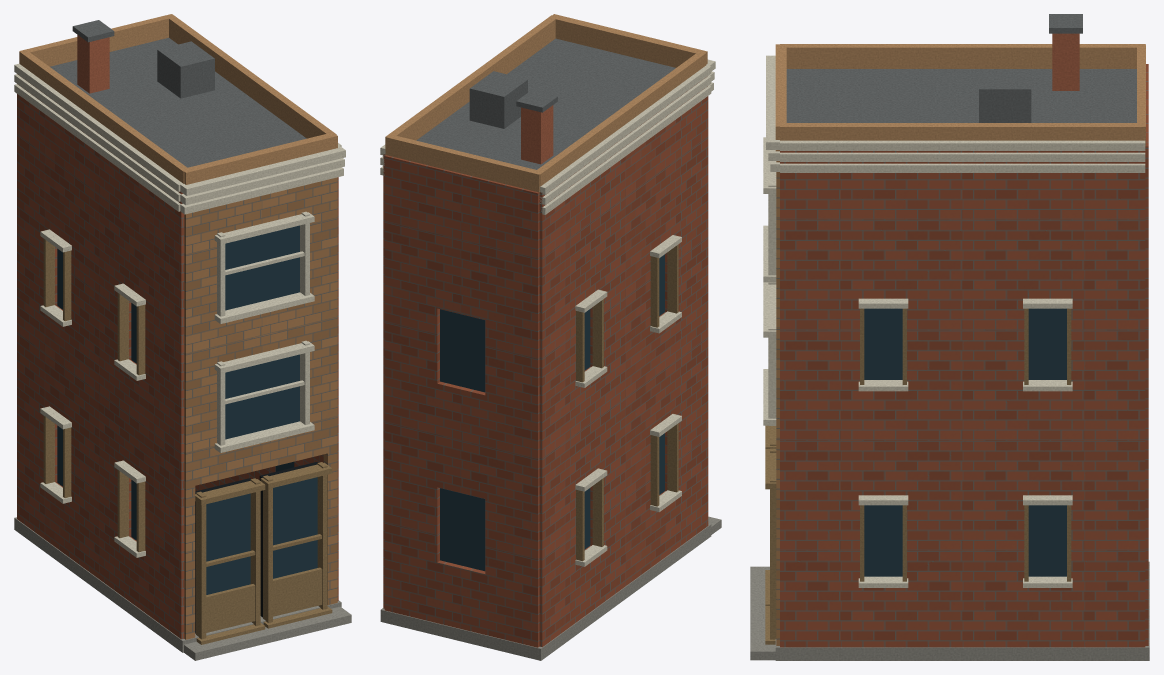
Rendered from OFFC10_lod2.glb.
3 views of the same model, side by side, from view 1: azimuth 30°, elevation 25°; view 2: azimuth 150°, elevation 25°; view 3: azimuth 270°, elevation 25° (orthographic). The views are drawn at different scales.
Parts seen in each view (by area): view 1: OFFC10_LOD2; view 2: OFFC10_LOD2; view 3: OFFC10_LOD2.
Part boxes in pixels (x1,y1,x2,y2): OFFC10_LOD2: (14,14,351,660); OFFC10_LOD2: (380,14,721,660); OFFC10_LOD2: (750,14,1149,660).
Bounding box in the file's own units: 3.71 × 10.45 × 6.57.
Materials: 10 (8 with a texture image).
